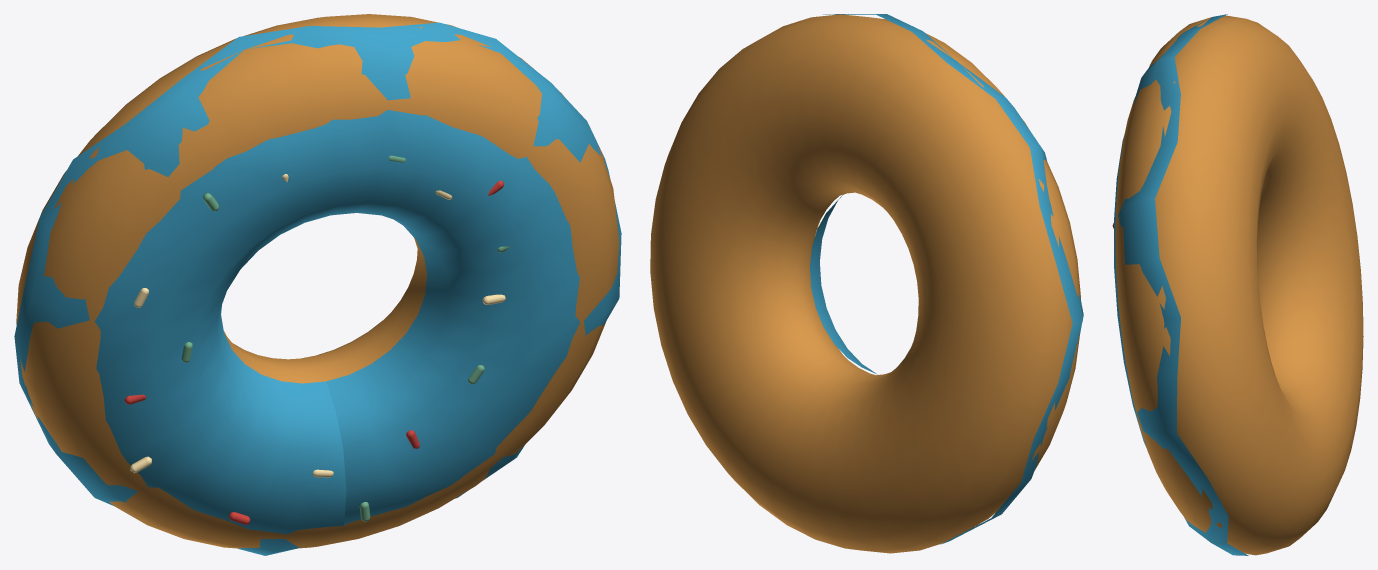
The model's file is donut.glb.
The picture shows the model from 3 angles, left to right: view 1: azimuth 30°, elevation 25°; view 2: azimuth 150°, elevation 25°; view 3: azimuth 270°, elevation 25°; orthographic projection. The views are drawn at different scales.
Visible parts, largest first — view 1: donut; view 2: donut; view 3: donut.
Part boxes in pixels (x1,y1,x2,y2): donut: (14,14,621,555); donut: (650,14,1083,553); donut: (1112,14,1363,555).
Size of the model in its own units: 0.875 by 0.8806 by 0.4123.
